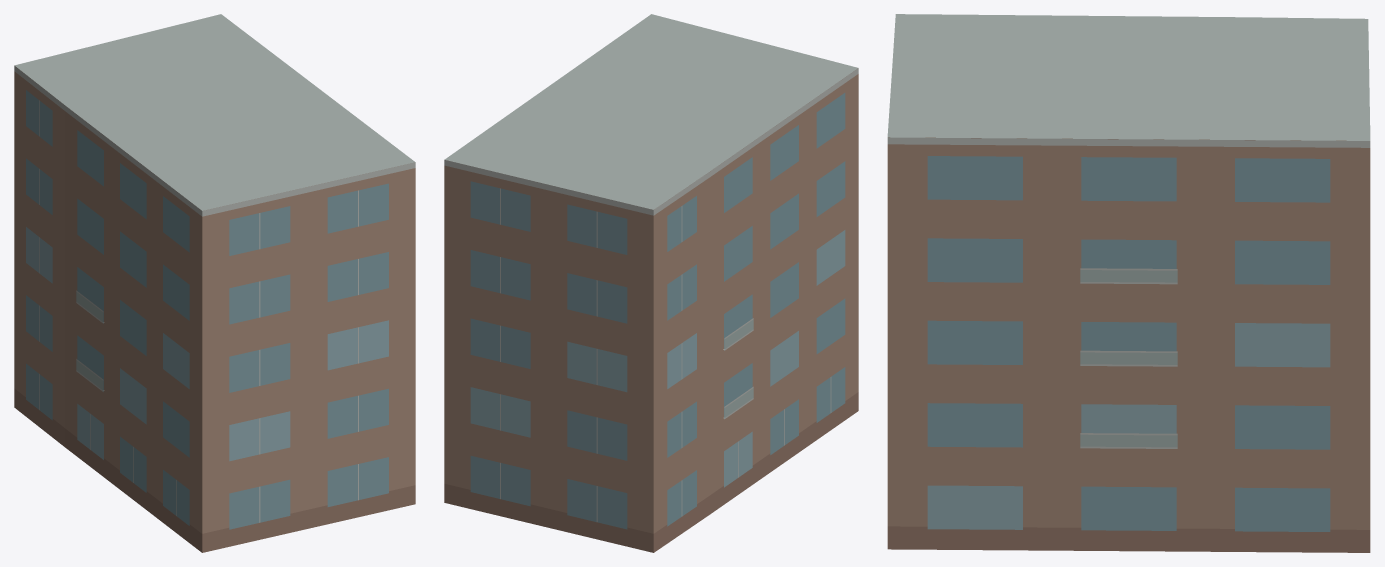
The model's file is survey-upis-32741425.glb.
The picture shows the model from 3 angles, left to right: view 1: azimuth 30°, elevation 25°; view 2: azimuth 150°, elevation 25°; view 3: azimuth 270°, elevation 25°; orthographic projection. The views are drawn at different scales.
Visible parts, largest first — view 1: survey-upis-32741425.tmp; view 2: survey-upis-32741425.tmp; view 3: survey-upis-32741425.tmp.
Part boxes in pixels (x1,y1,x2,y2): survey-upis-32741425.tmp: (14, 14, 415, 552); survey-upis-32741425.tmp: (444, 14, 858, 552); survey-upis-32741425.tmp: (887, 14, 1370, 552).
Bounding box in the file's own units: 9.59 × 14.5 × 15.42.
